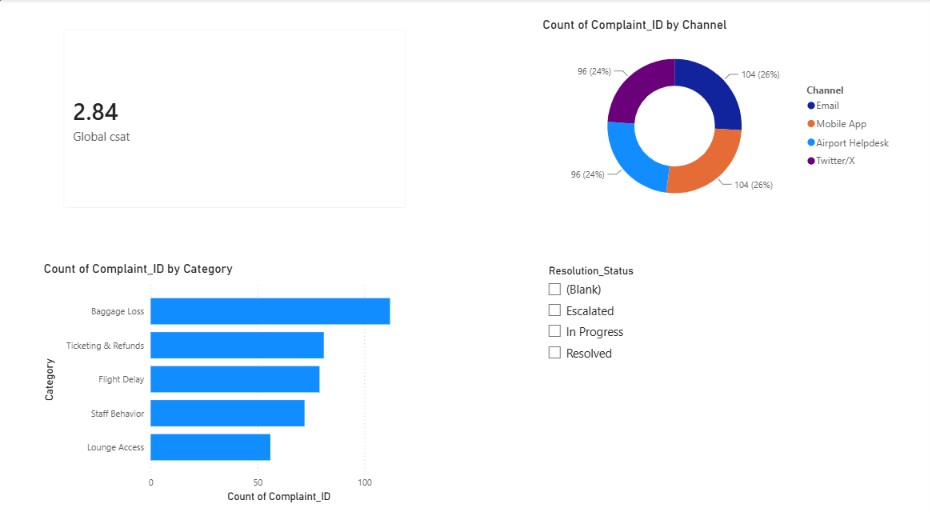

Layout of this report page (visuals, bound fields, positions):
{"tool":"powerbi","page":{"name":"Page 1","canvas":[1280,720],"ordinal":0},"visuals":[{"type":"cardVisual","fields":{"Data":["Avg(Sheet1.CSAT_Score)"]},"box":[71.4,24.7,503.6,279.9],"z":0},{"type":"clusteredBarChart","fields":{"Category":["Sheet1.Category"],"Y":["CountNonNull(Sheet1.Complaint_ID)"]},"box":[56.3,359.5,518.7,336.2],"z":1},{"type":"donutChart","fields":{"Category":["Sheet1.Channel"],"Y":["CountNonNull(Sheet1.Complaint_ID)"]},"box":[741,24.7,494,279.9],"z":2},{"type":"slicer","fields":{"Values":["Sheet1.Resolution_Status"]},"box":[741,359.5,494,360.9],"z":3}]}

Visuals, with their boxes in screenshot pixels (x1, y1, x2, y2), scaled from the page's 1280x720 canvas onto the 930x520 screenshot:
cardVisual - Avg(Sheet1.CSAT_Score): region(52, 18, 418, 220)
clusteredBarChart - Sheet1.Category x CountNonNull(Sheet1.Complaint_ID): region(41, 260, 418, 502)
donutChart - Sheet1.Channel x CountNonNull(Sheet1.Complaint_ID): region(538, 18, 897, 220)
slicer - Sheet1.Resolution_Status: region(538, 260, 897, 519)
